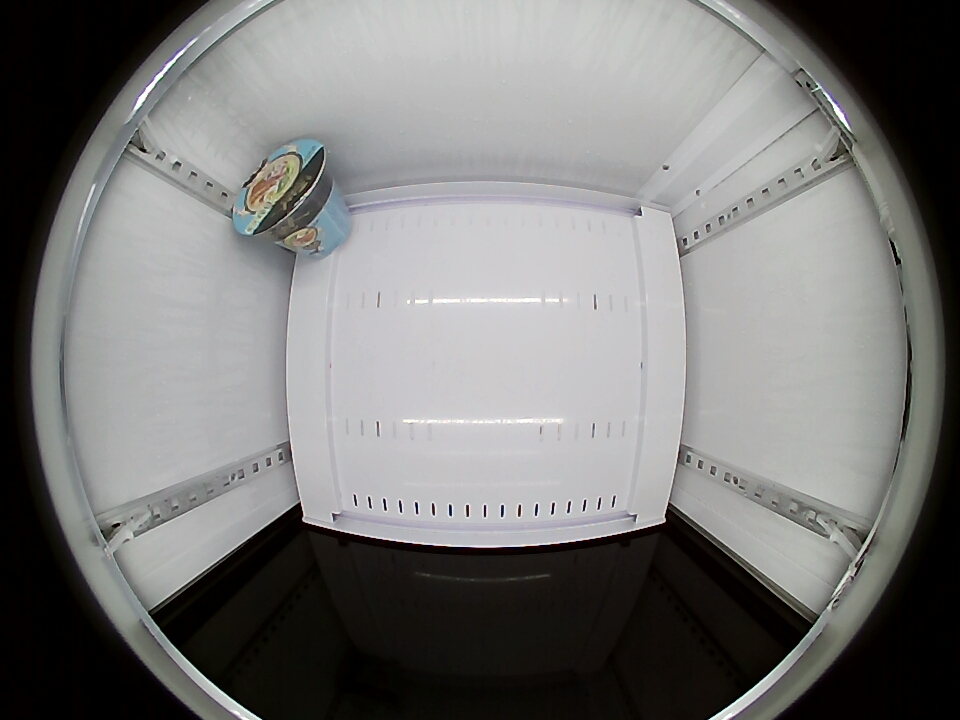tangdaren3: (233, 140, 331, 242)
